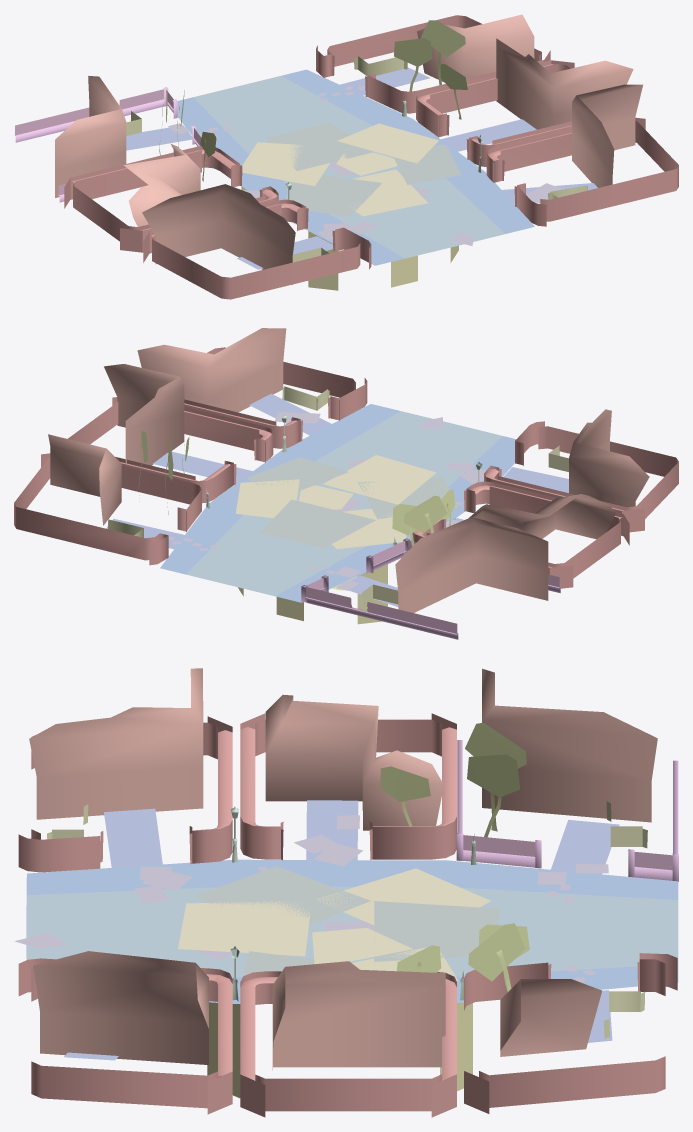
File: map1.fbx
3 renders of one model, top to bottom at view 1: azimuth 30°, elevation 25°; view 2: azimuth 150°, elevation 25°; view 3: azimuth 270°, elevation 25°, orthographic. The views are drawn at different scales.
Parts seen in each view (by area): view 1: btl_G_poo; view 2: btl_G_poo; view 3: btl_G_poo.
Boxes of the visible parts, box(x1,y1,x2,y2) form: btl_G_poo: box(14, 14, 678, 299); btl_G_poo: box(14, 328, 678, 639); btl_G_poo: box(14, 668, 678, 1117).
Size of the model in its own units: 4937 by 1377 by 3690.
